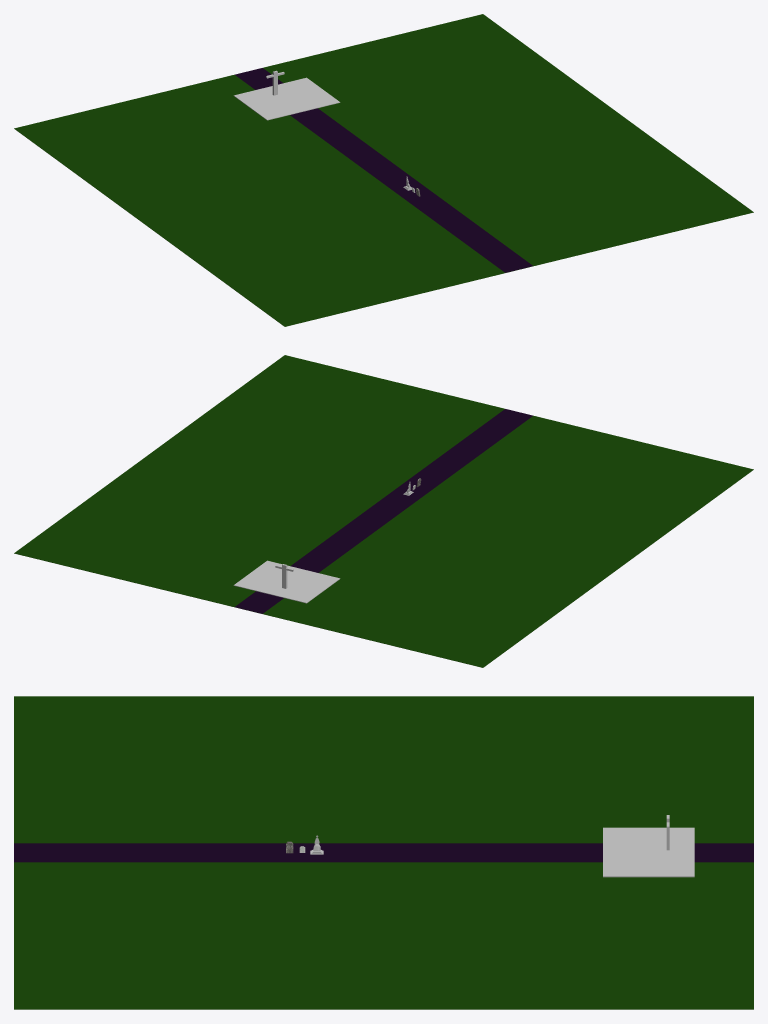
File: cementerio.fbx
3 renders of one model, top to bottom at view 1: azimuth 30°, elevation 25°; view 2: azimuth 150°, elevation 25°; view 3: azimuth 270°, elevation 25°, orthographic. The views are drawn at different scales.
Visible parts, largest first — view 1: Cube, Altarboss; view 2: Cube, Altarboss; view 3: Cube, Altarboss.
Boxes of the visible parts, x1,y1,x2,y2 form: Cube: (14, 14, 753, 326); Altarboss: (233, 77, 340, 120); Cube: (14, 355, 753, 667); Altarboss: (233, 560, 340, 603); Cube: (14, 696, 753, 1009); Altarboss: (603, 827, 694, 877).
Size of the model in its own units: 10000 by 515 by 10000.
